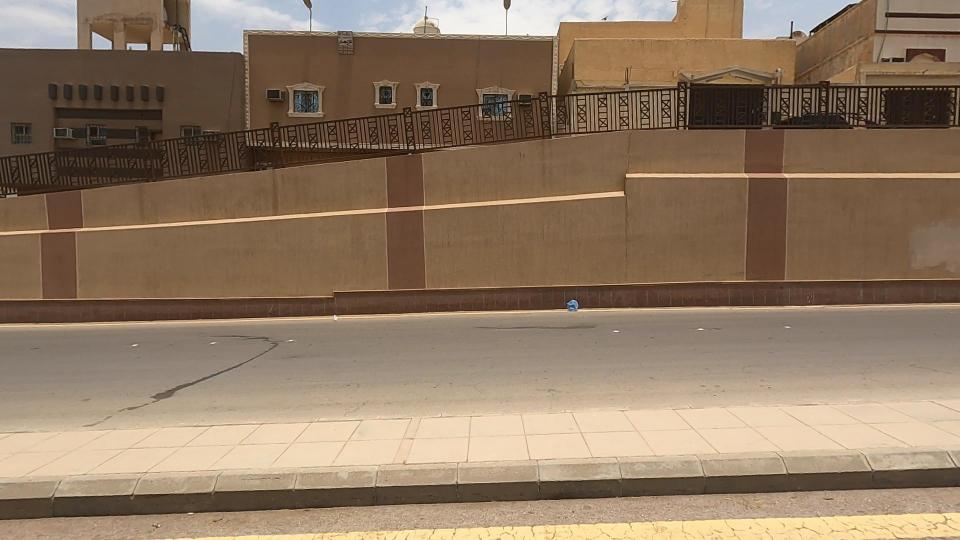GARBAGE: (522, 268, 618, 339)
